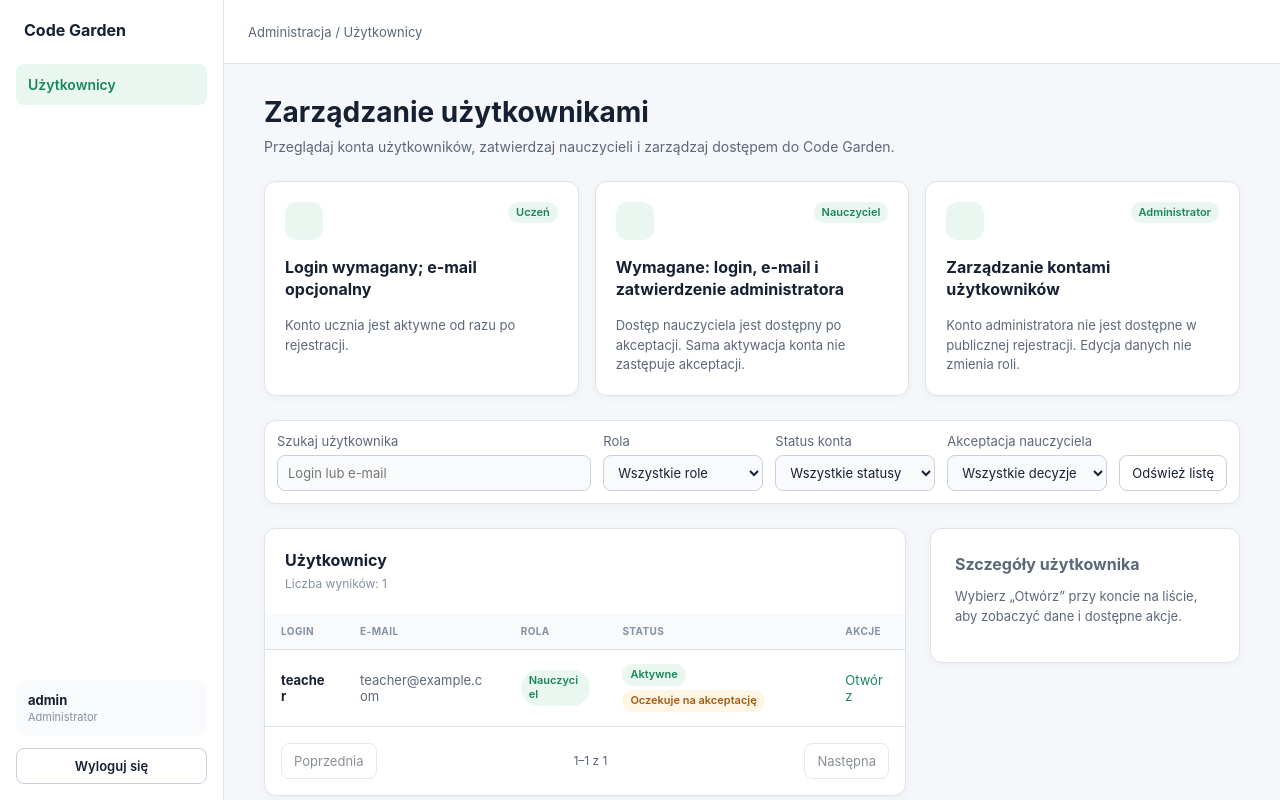
clears selection using Odznacz użytkownika teacher
Click the button with aria-label "Otwórz użytkownika teacher".
click(867, 688)  # box [845,666,889,710]
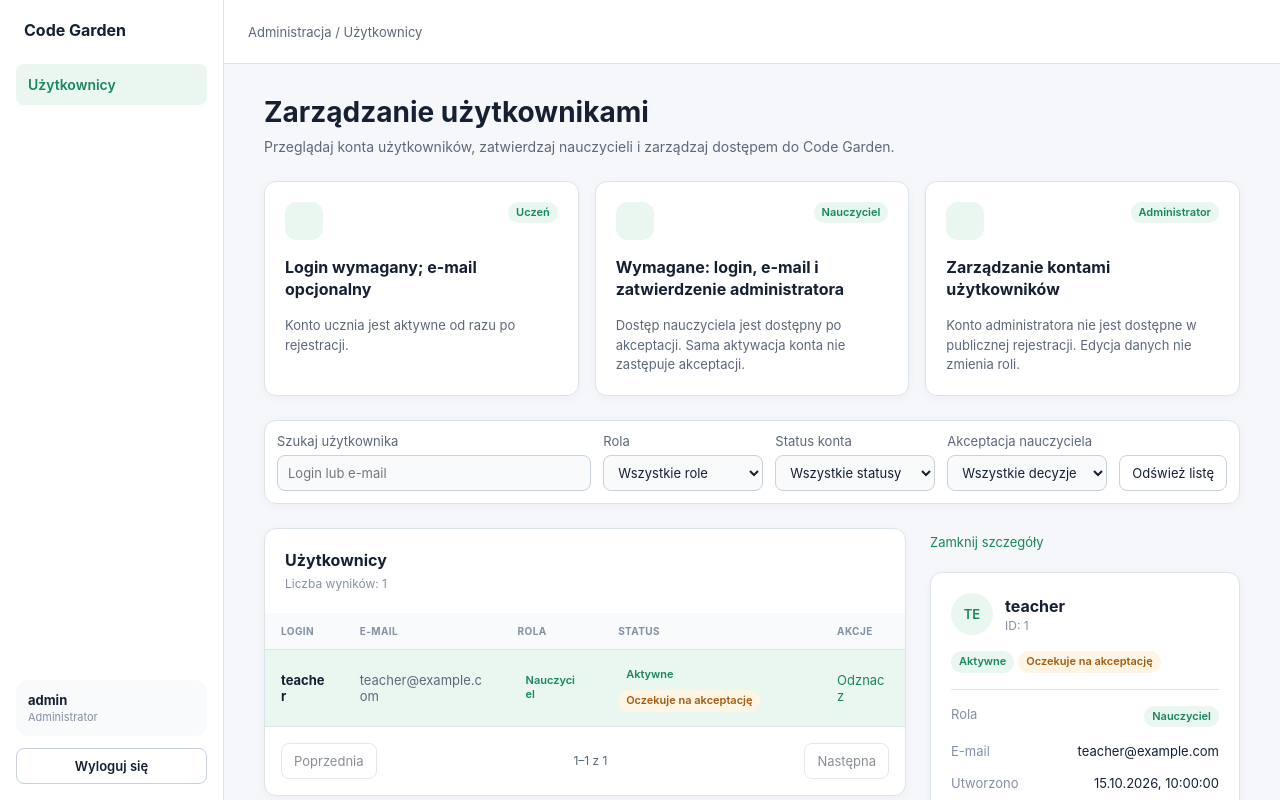
Click the button with aria-label "Odznacz użytkownika teacher".
click(863, 688)  # box [837,666,889,710]
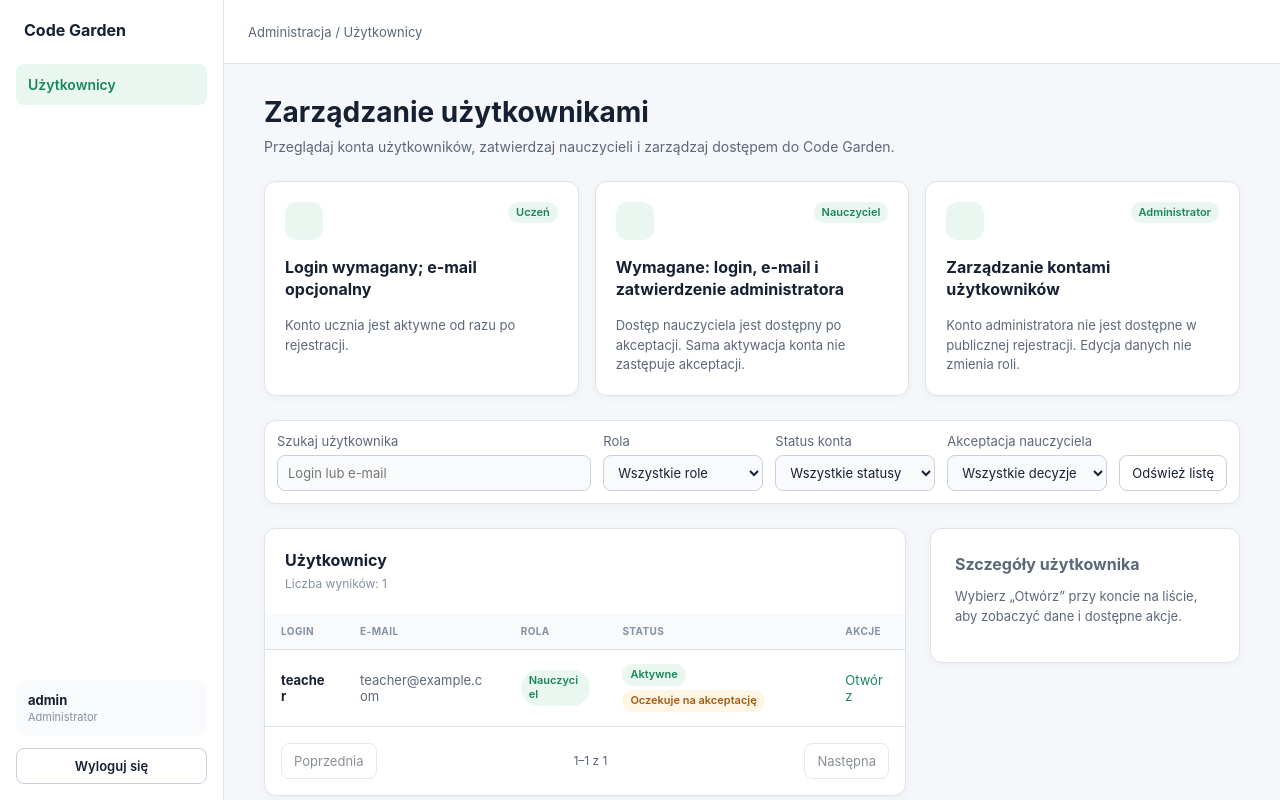
Check: the text "Wybierz „Otwórz”" is shown, box [955,588,1197,624]
